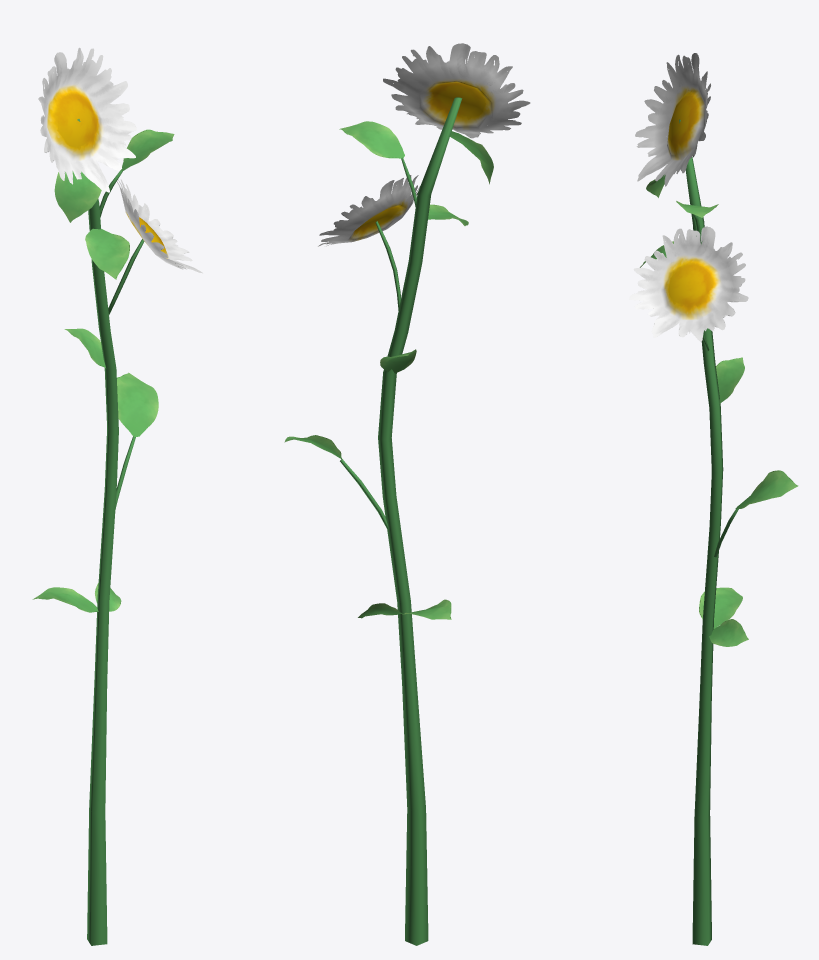
Rendered from SM_sunflower.fbx.
3 views of the same model, side by side, from view 1: azimuth 30°, elevation 25°; view 2: azimuth 150°, elevation 25°; view 3: azimuth 270°, elevation 25° (orthographic). The views are drawn at different scales.
Parts seen in each view (by area): view 1: Line024; view 2: Line024; view 3: Line024.
Part boxes in pixels (x1,y1,x2,y2): Line024: (32,47,202,945); Line024: (284,43,530,945); Line024: (629,53,798,945).
Bounding box in the file's own units: 18.24 × 69.66 × 14.65.
